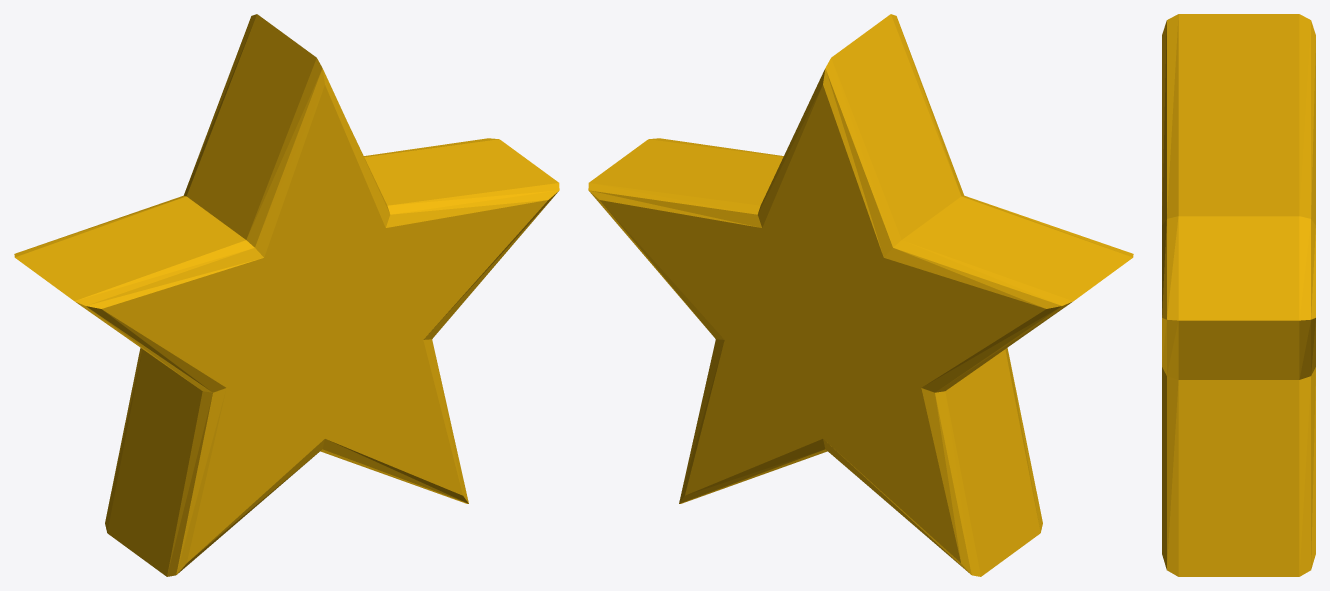
File: star.glb
3 views of the same model, side by side, from view 1: azimuth 30°, elevation 25°; view 2: azimuth 150°, elevation 25°; view 3: azimuth 270°, elevation 25° (orthographic).
Visible parts, largest first — view 1: star; view 2: star; view 3: star.
Part boxes in pixels (x1=…): star: x1=14, y1=14, x2=559, y2=576; star: x1=588, y1=14, x2=1133, y2=576; star: x1=1162, y1=14, x2=1315, y2=576.
Size of the model in its own units: 1 by 0.9511 by 0.2714.
